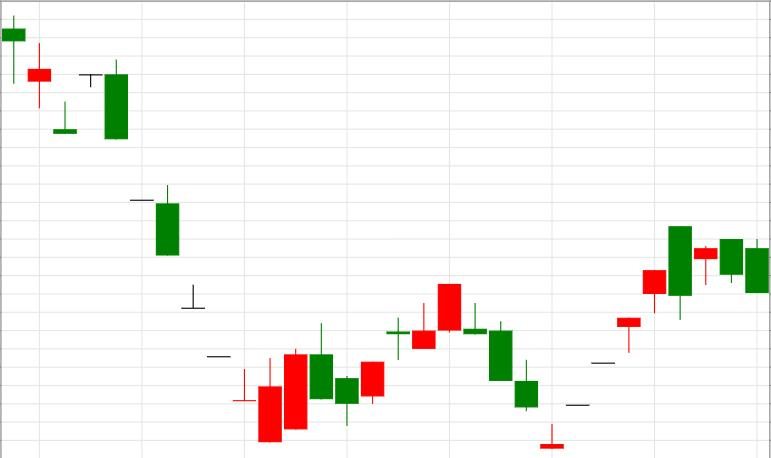bearish_engulfing_fall: (540, 226, 692, 449)
